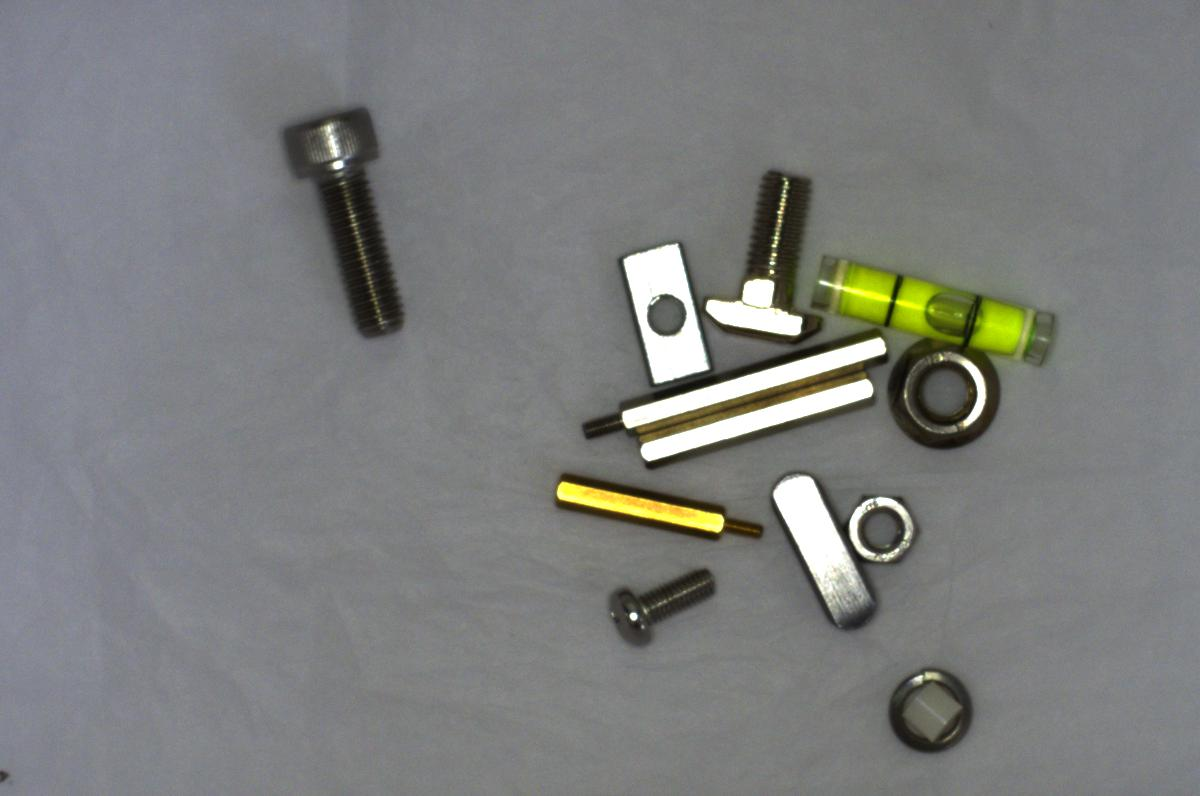Double hexagonal column: (635, 373, 882, 477)
Flange nut: (879, 330, 1014, 460)
Hexagon nut: (833, 486, 929, 569)
Hexagon pillar: (539, 456, 769, 542)
Hexagon screw: (271, 92, 419, 342)
Hexagonal steel column: (579, 312, 916, 445)
Horizontal bubble: (806, 253, 1060, 368)
Keybar: (764, 450, 883, 639)
Plastic cushion pillar: (901, 686, 964, 749)
Rectangular nut: (615, 231, 716, 391)
Round head screw: (606, 559, 720, 641)
Spring washer: (869, 651, 989, 760)
T-shaped screw: (675, 162, 816, 364)
